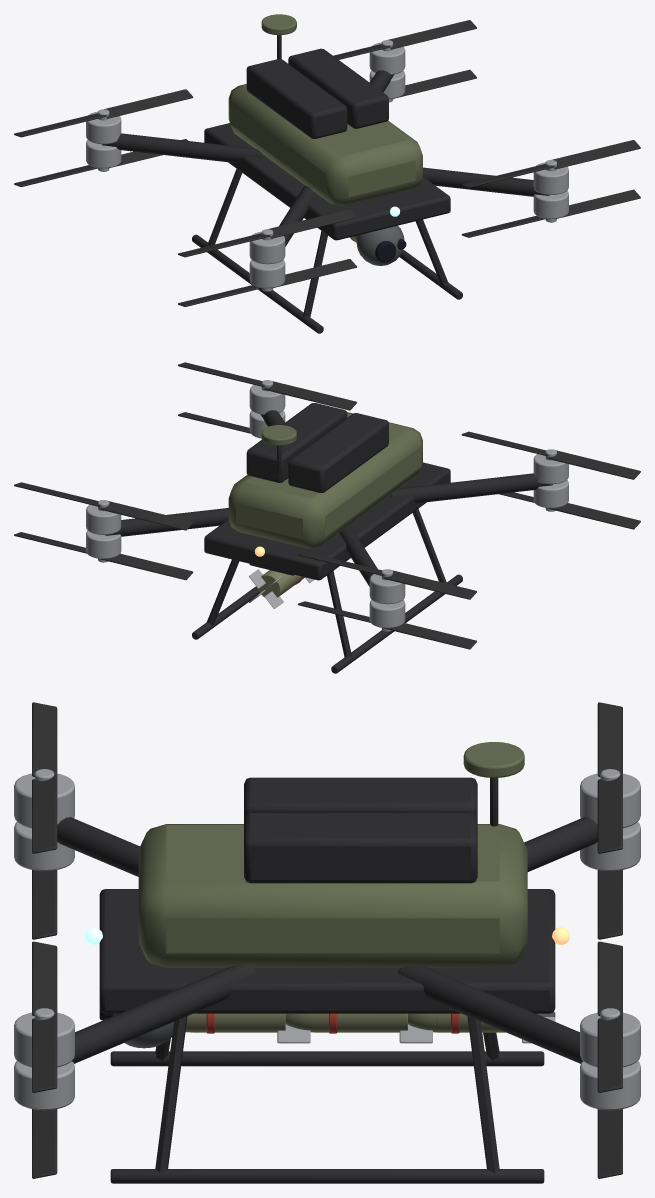
File: Drone_Nightjar.fbx
3 renders of one model, top to bottom at view 1: azimuth 30°, elevation 25°; view 2: azimuth 150°, elevation 25°; view 3: azimuth 270°, elevation 25°, orthographic. The views are drawn at different scales.
Visible parts, largest first — view 1: Shell, Frame, Battery_-1, Battery_1, Arm_1, Arm_3, Prop_2, Prop_1, Prop_3, Prop_0, Prop_2_low, Prop_3_low (+18 smaller); view 2: Shell, Frame, Battery_-1, Battery_1, Arm_2, Prop_2, Prop_1, Prop_3, Prop_0, Arm_0, Prop_1_low, Prop_0_low (+16 smaller); view 3: Shell, Frame, Battery_1, Battery_-1, Skid_1, Skid_-1, Arm_0, Arm_3, Prop_0, Prop_1, Prop_2, Prop_3 (+21 smaller).
Boxes of the visible parts, left/top/right/bottom form: Shell: left=228, top=84, right=422, bottom=205; Frame: left=204, top=123, right=450, bottom=240; Battery_-1: left=246, top=59, right=347, bottom=138; Battery_1: left=288, top=48, right=388, bottom=128; Arm_1: left=102, top=133, right=264, bottom=163; Arm_3: left=423, top=167, right=549, bottom=196; Prop_2: left=178, top=209, right=356, bottom=257; Prop_1: left=14, top=89, right=193, bottom=137; Prop_3: left=461, top=140, right=640, bottom=187; Prop_0: left=333, top=20, right=476, bottom=59; Prop_2_low: left=178, top=259, right=356, bottom=306; Prop_3_low: left=461, top=189, right=640, bottom=237; Shell: left=228, top=412, right=422, bottom=548; Frame: left=204, top=462, right=450, bottom=580; Battery_-1: left=288, top=413, right=388, bottom=492; Battery_1: left=246, top=403, right=347, bottom=482; Arm_2: left=390, top=473, right=552, bottom=503; Prop_2: left=461, top=431, right=640, bottom=479; Prop_1: left=298, top=551, right=476, bottom=599; Prop_3: left=178, top=362, right=356, bottom=410; Prop_0: left=14, top=482, right=193, bottom=530; Arm_0: left=105, top=508, right=228, bottom=536; Prop_1_low: left=298, top=601, right=476, bottom=649; Prop_0_low: left=14, top=532, right=193, bottom=580; Shell: left=138, top=824, right=527, bottom=967; Frame: left=99, top=889, right=555, bottom=1013; Battery_1: left=244, top=812, right=477, bottom=883; Battery_-1: left=244, top=777, right=477, bottom=818; Skid_1: left=110, top=1169, right=544, bottom=1183; Skid_-1: left=110, top=1051, right=544, bottom=1066; Arm_0: left=398, top=965, right=583, bottom=1063; Arm_3: left=71, top=965, right=256, bottom=1063; Prop_0: left=597, top=941, right=622, bottom=1092; Prop_1: left=597, top=702, right=622, bottom=853; Prop_2: left=32, top=702, right=57, bottom=853; Prop_3: left=32, top=941, right=57, bottom=1092.
Size of the model in its own units: 1.64 by 0.7353 by 1.13.
